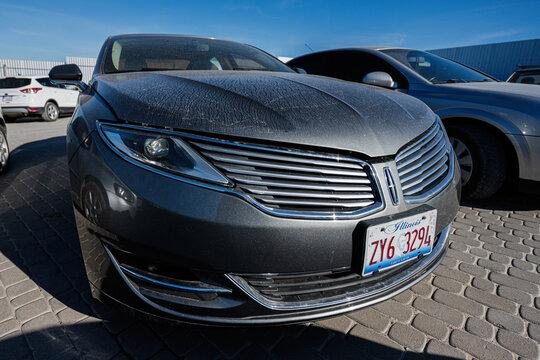lincoln: (377, 160, 405, 213)
